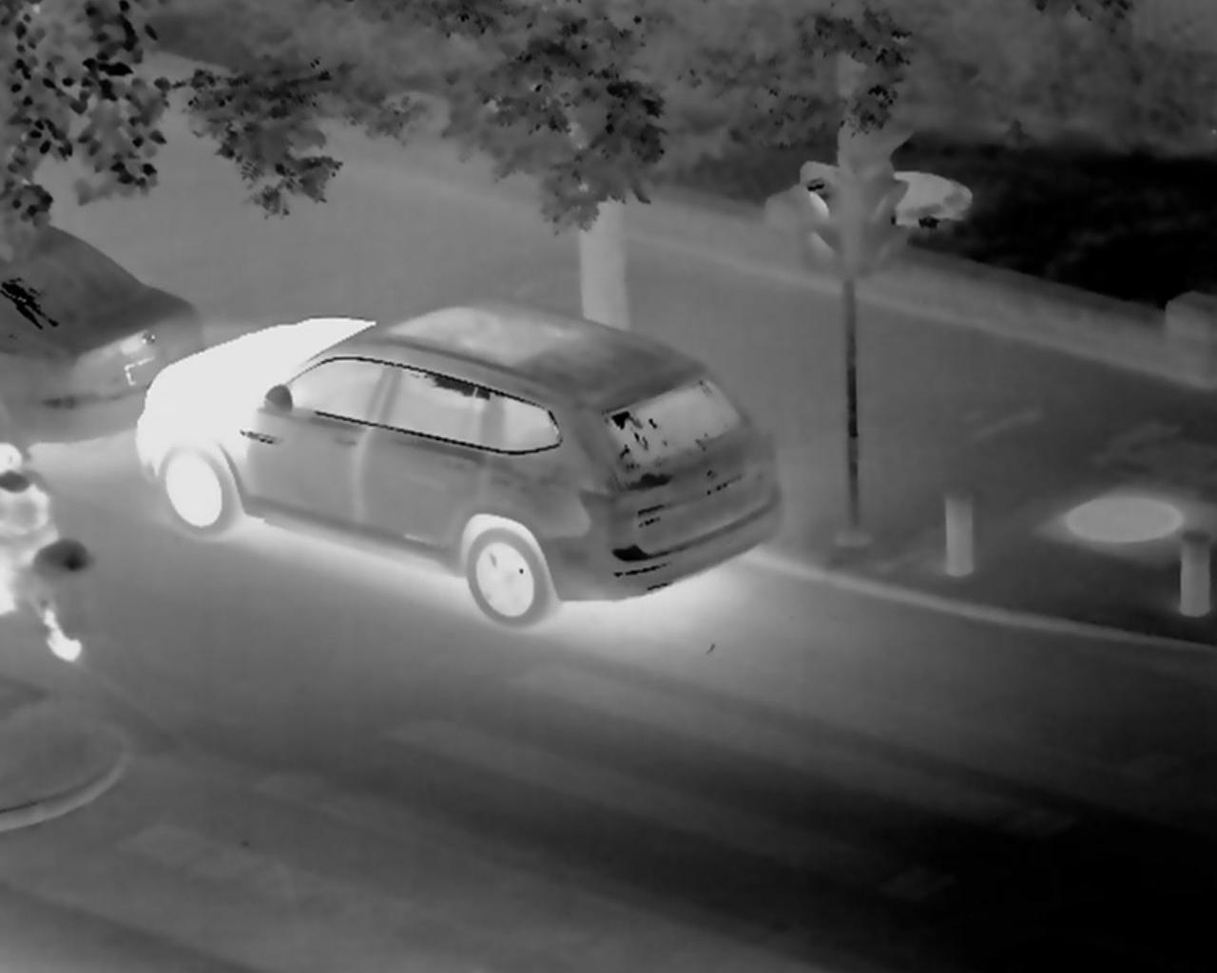person: (3, 455, 78, 619)
